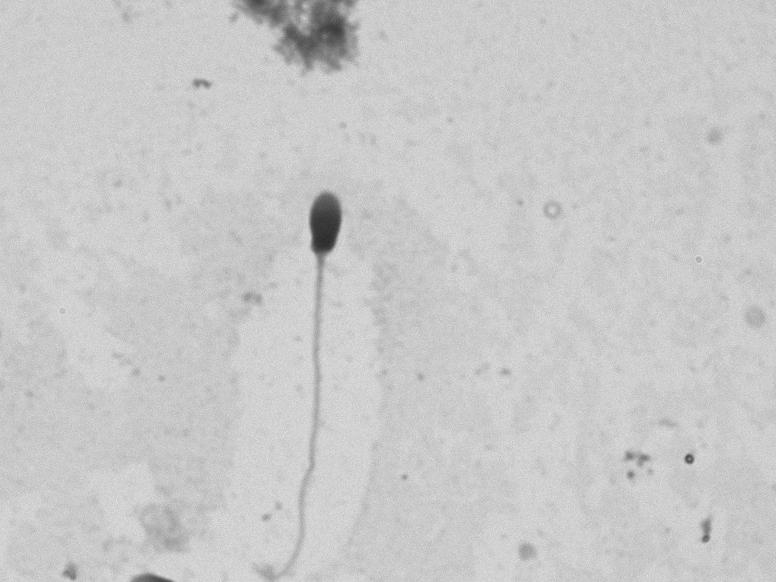Abnormal: (237, 168, 382, 567)
